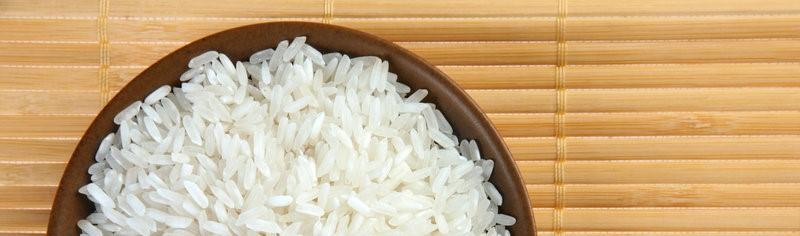WhiteRice: (76, 34, 516, 236)
